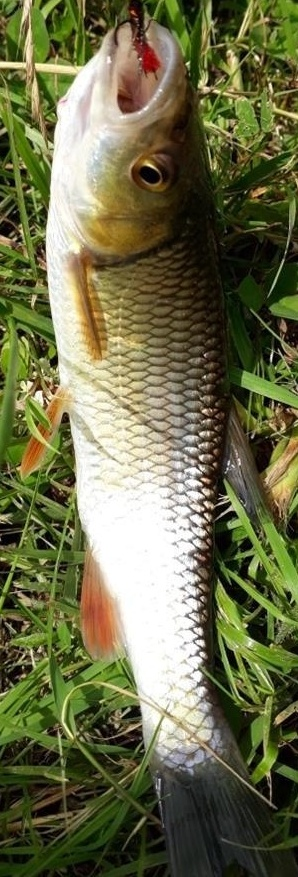Leuciscus cephalus: (20, 20, 278, 877)
